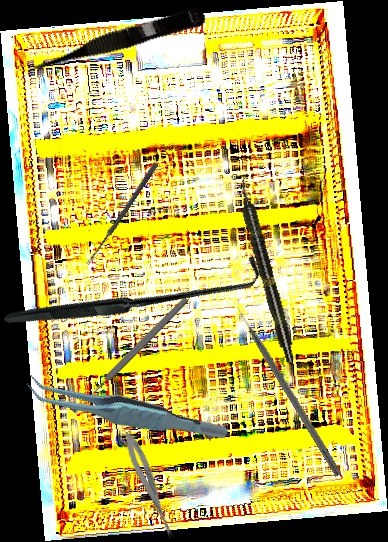Handpiece: (233, 176, 299, 364)
Hook Surgical: (3, 162, 266, 423), (234, 304, 344, 477)
Micro Scissor: (21, 1, 208, 79), (119, 428, 181, 542)
Surgical Spoon: (70, 295, 190, 416), (85, 161, 159, 267)
Tissue Forceps: (22, 339, 230, 481)
